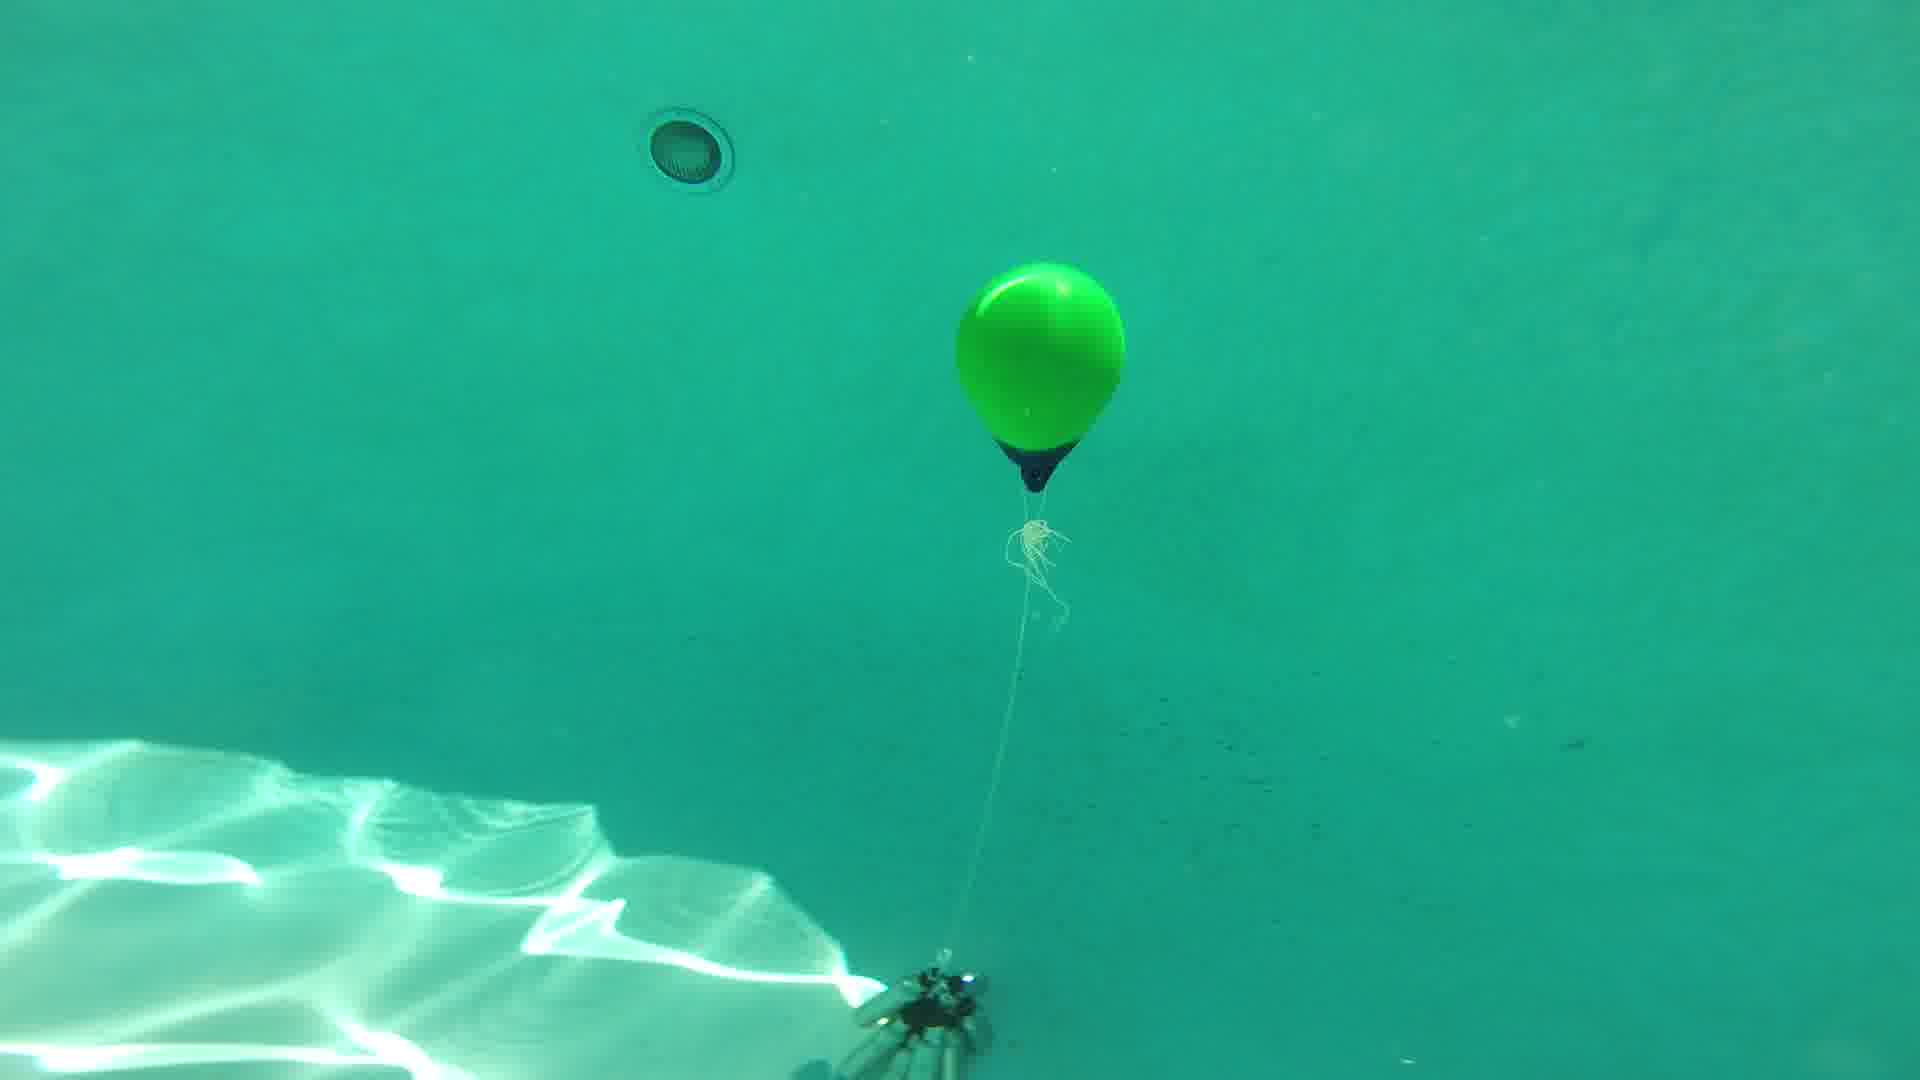yellow_buoy: (952, 262, 1129, 495)
